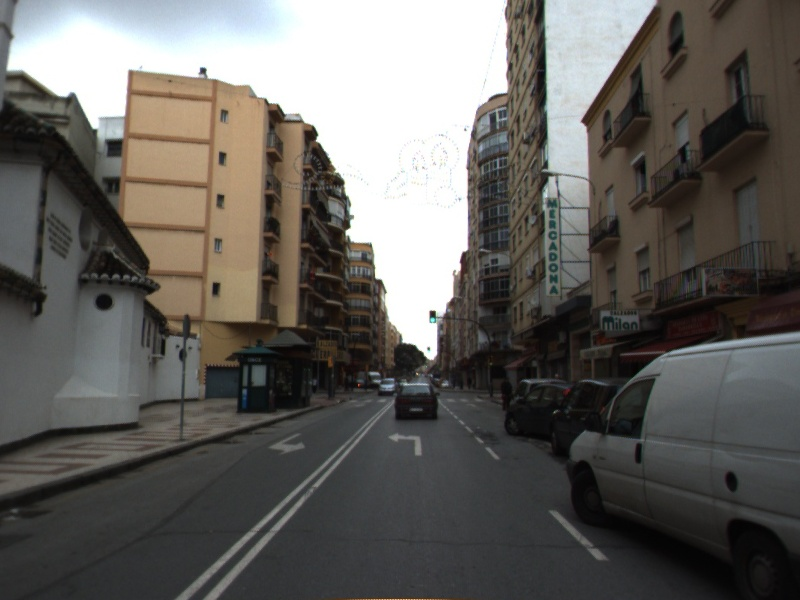LEFT: (387, 431, 423, 457)
